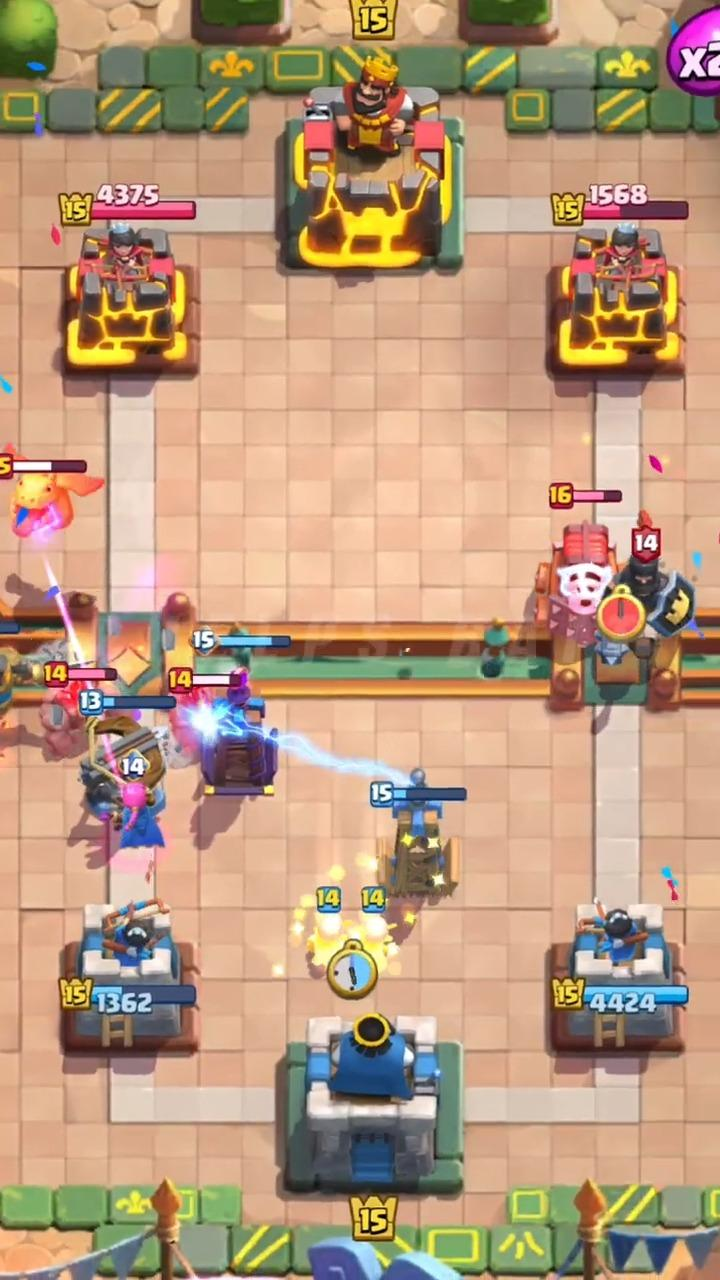archer: (120, 783, 163, 848), (351, 914, 398, 972), (307, 913, 347, 971)
baby dragon: (6, 446, 103, 542)
dark prince: (619, 556, 694, 637)
sparky: (535, 520, 616, 646)
tesla: (191, 668, 277, 797), (377, 796, 459, 901), (408, 770, 427, 794)
x-bow: (79, 708, 174, 830)
